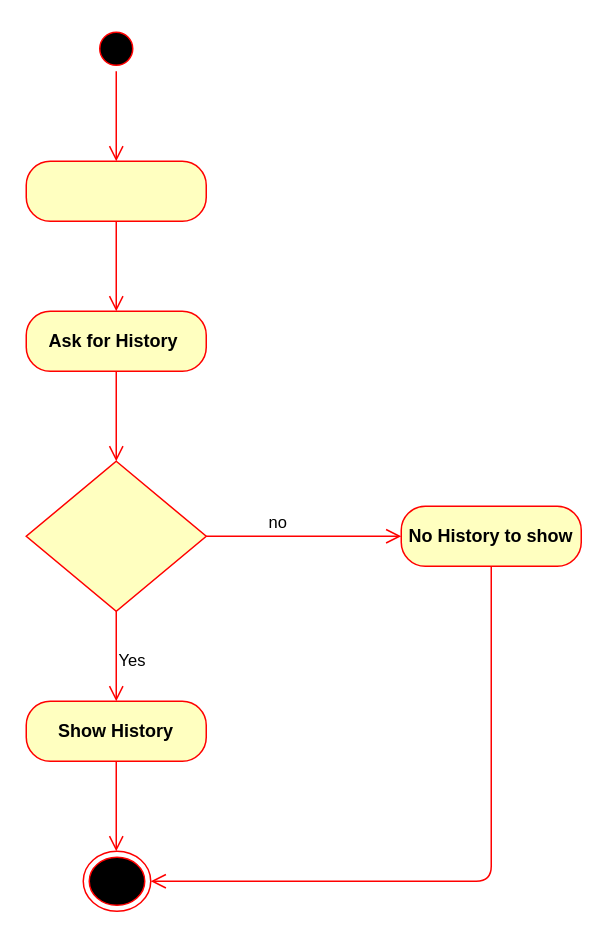
Image size: 608x938. Some labels were removed from this diagram. The centre of each missing label's shape, as x and y in pixels:
"Sign in successfully" belongs at pixel 115 190.
"System used recently ?" belongs at pixel 115 535.
